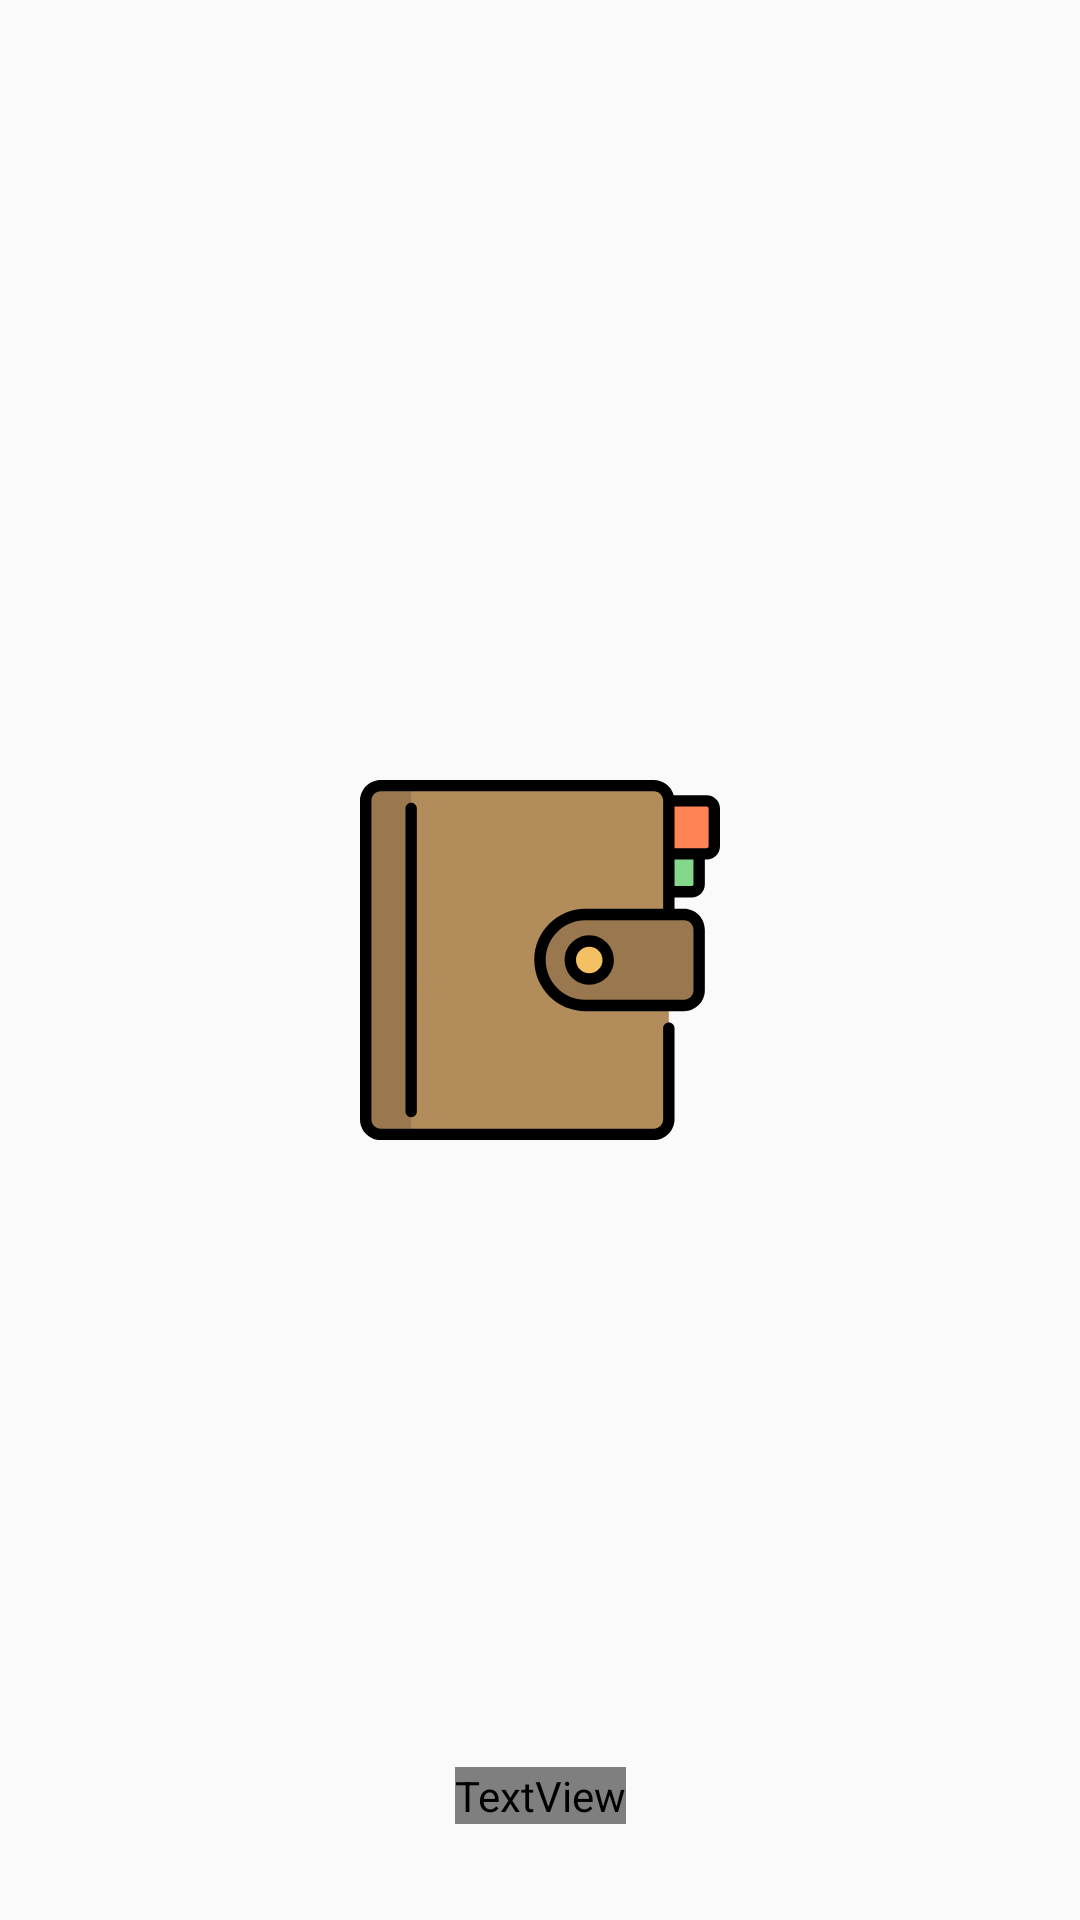

Where icons sit on this 1080 × 1920 app screen, as (x1, y1, x2, y2):
agenda: (360, 780, 720, 1140)
